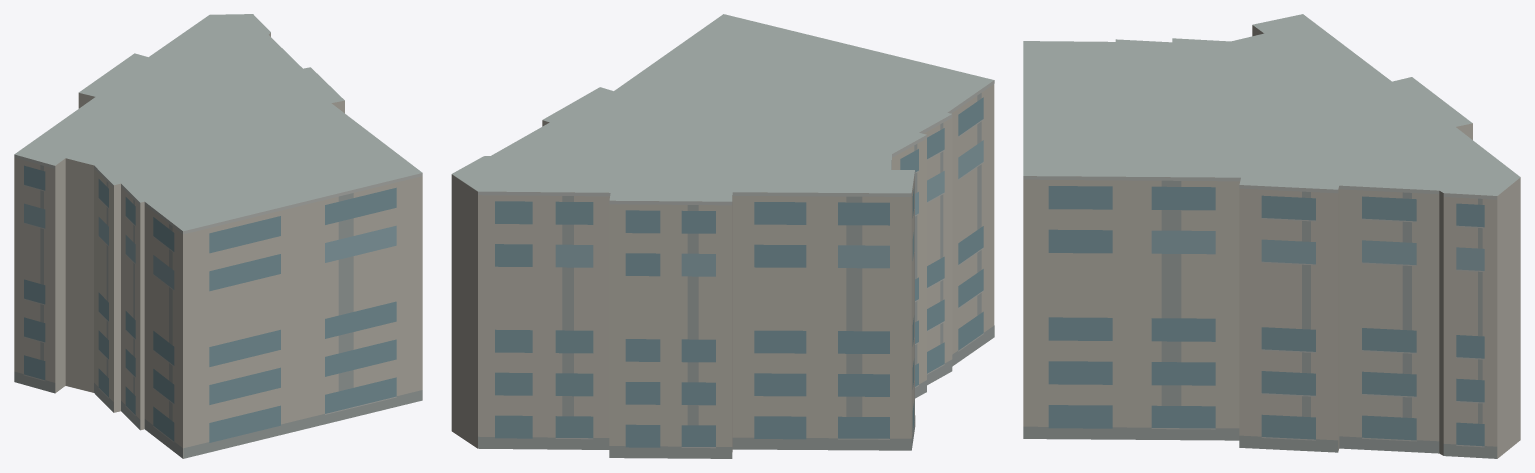
The model's file is survey-upis-32833912.glb.
3 views of the same model, side by side, from view 1: azimuth 30°, elevation 25°; view 2: azimuth 150°, elevation 25°; view 3: azimuth 270°, elevation 25° (orthographic). The views are drawn at different scales.
Parts seen in each view (by area): view 1: survey-upis-32833912.tmp; view 2: survey-upis-32833912.tmp; view 3: survey-upis-32833912.tmp.
Part boxes in pixels (<box>): survey-upis-32833912.tmp: <box>14,14,422,458</box>; survey-upis-32833912.tmp: <box>451,14,994,458</box>; survey-upis-32833912.tmp: <box>1023,14,1520,458</box>.
Bounding box in the file's own units: 26 × 17.5 × 30.02.
